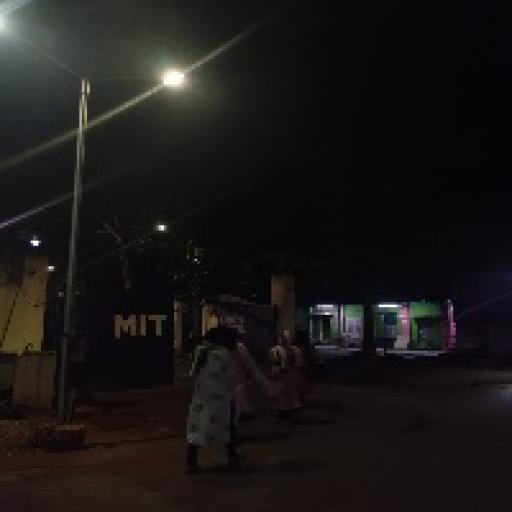Working: (155, 64, 191, 96)
